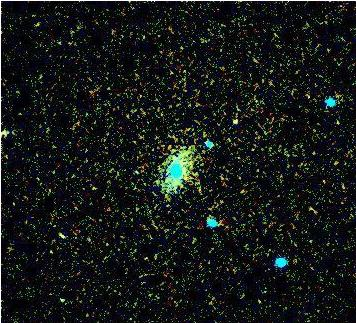star: (223, 108, 253, 138)
